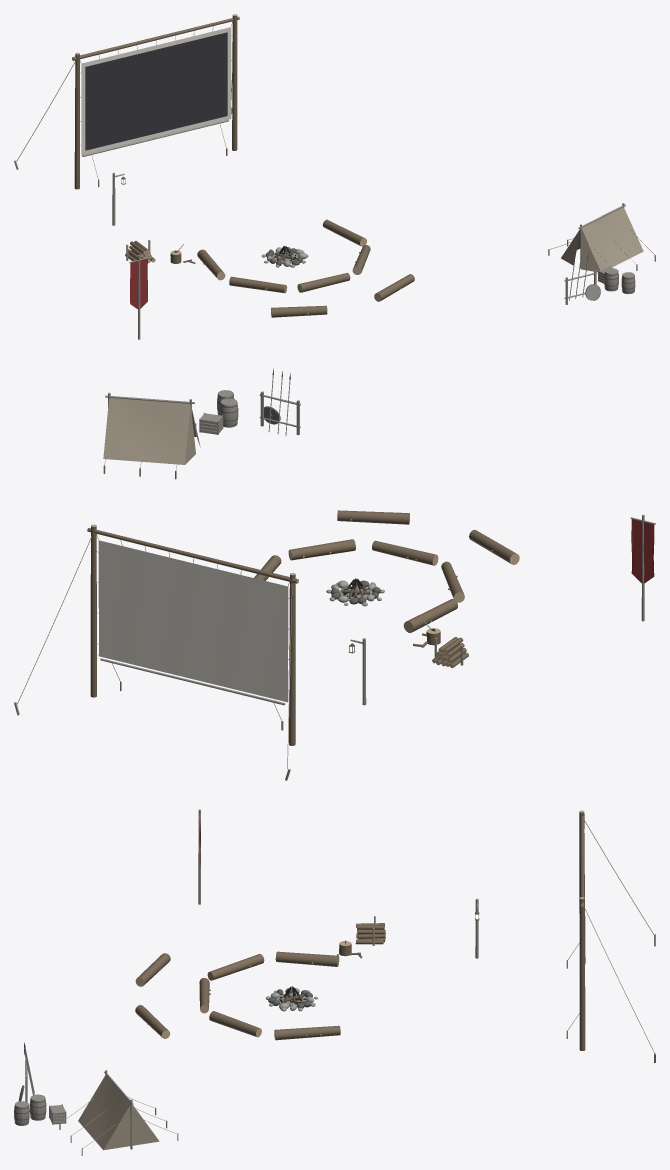
The model's file is camp.glb.
3 views of the same model, one above another, from view 1: azimuth 30°, elevation 25°; view 2: azimuth 150°, elevation 25°; view 3: azimuth 270°, elevation 25° (orthographic). The views are drawn at different scales.
Visible parts, largest first — view 1: Screen, ScreenFrame, Tent, SeatLogs, Gear, Banner, FirePit, Woodpile; view 2: ScreenFrame, Tent, SeatLogs, Gear, Banner, Woodpile, FirePit; view 3: SeatLogs, Tent, ScreenFrame, Gear, Woodpile, FirePit.
Part boxes in pixels (x1,y1,x2,y2): Screen: (85, 32, 227, 150); ScreenFrame: (14, 14, 239, 189); Tent: (548, 203, 655, 277); SeatLogs: (197, 219, 414, 317); Gear: (564, 254, 635, 304); Banner: (129, 255, 149, 339); FirePit: (261, 245, 308, 267); Woodpile: (125, 239, 195, 263); ScreenFrame: (14, 524, 298, 780); Tent: (103, 392, 200, 479); SeatLogs: (254, 510, 519, 632); Gear: (199, 368, 300, 435); Banner: (630, 514, 655, 621); Woodpile: (413, 620, 468, 668); FirePit: (326, 578, 384, 606); SeatLogs: (135, 951, 340, 1040); Tent: (59, 1070, 178, 1155); ScreenFrame: (566, 810, 655, 1062); Gear: (14, 1042, 66, 1125); Woodpile: (337, 916, 385, 958); FirePit: (265, 986, 318, 1011).
Bounding box in the file's own units: 26.64 × 7.25 × 27.78.
